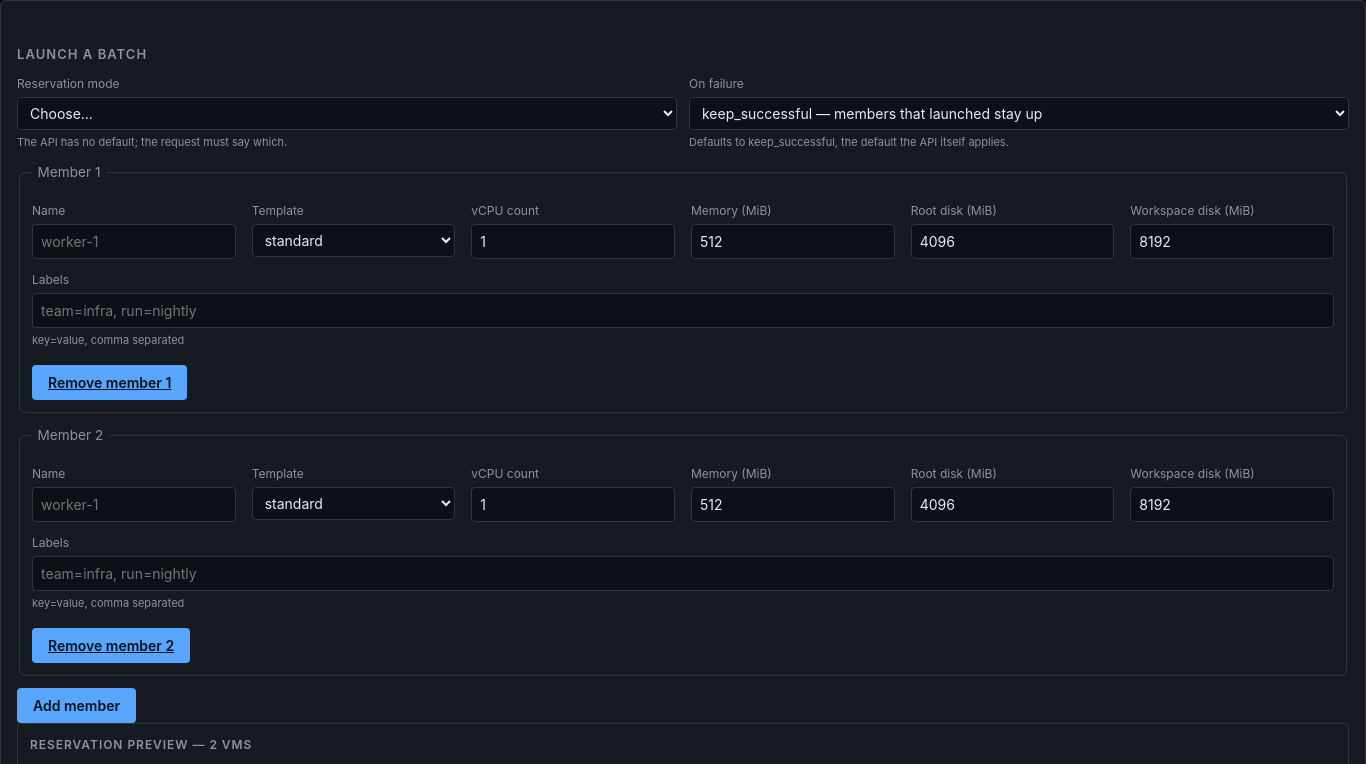
LaunchBatch submit › shows the daemon own refusal, cause and remediation, when the batch is refused
Select "best_effort — admit what fits, refuse the rest" in the dropdown labelled "Reservation mode" at (347, 113), box x1=17 y1=96 x2=677 y2=130
(page scrolled)
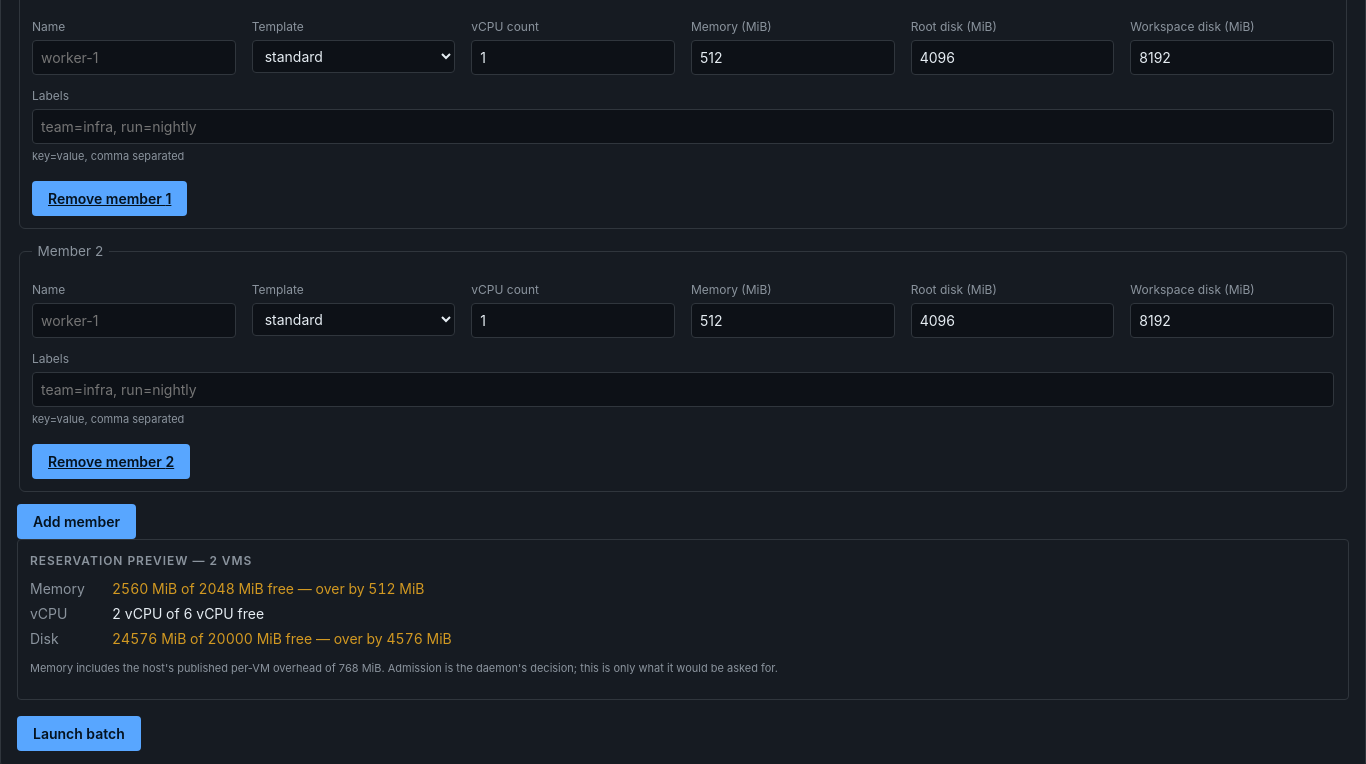
Click the button "Launch batch" at (79, 734), box x1=17 y1=716 x2=141 y2=751
(page scrolled)
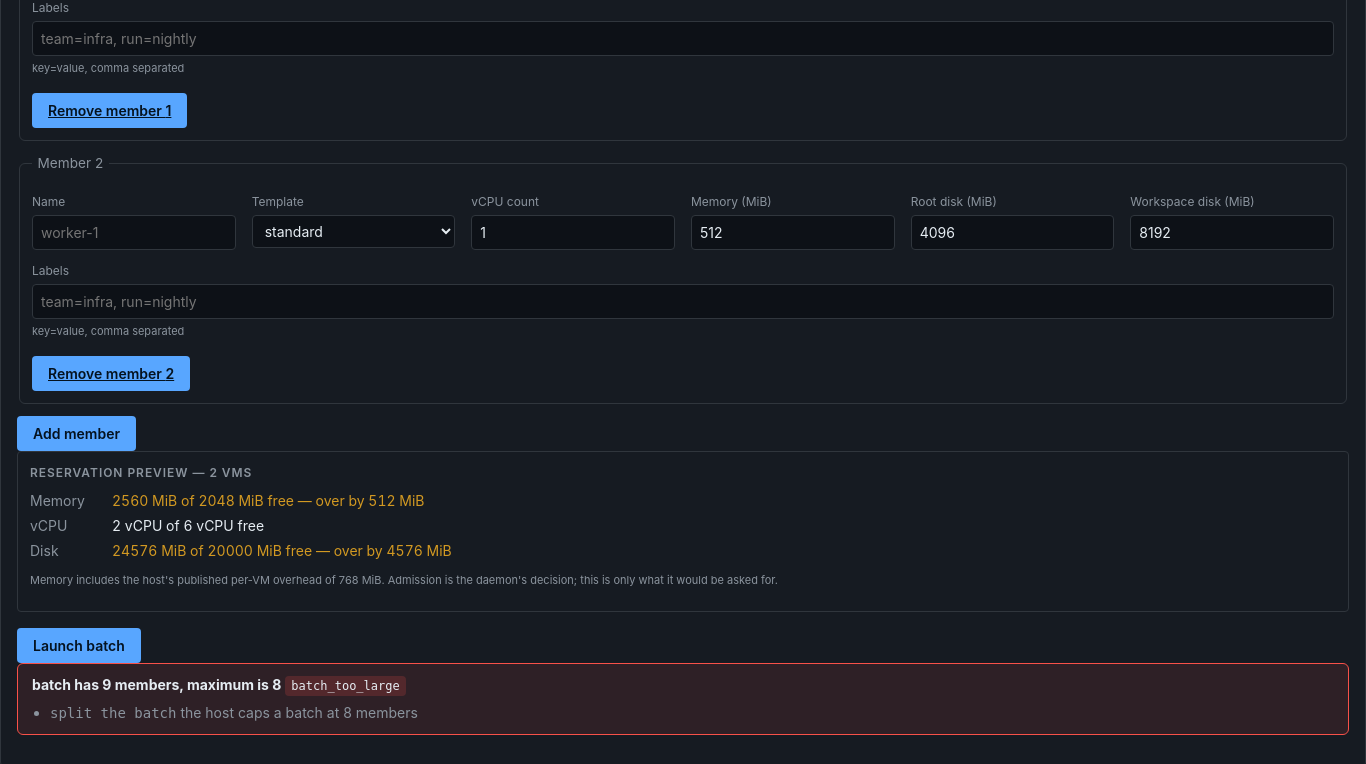
Now the message shows "batch has 9 members, maximum is 8", box x1=32 y1=676 x2=281 y2=693
Now the message shows "batch_too_large", box x1=291 y1=679 x2=400 y2=693
Now the message shows "split the batch", box x1=50 y1=705 x2=176 y2=721
